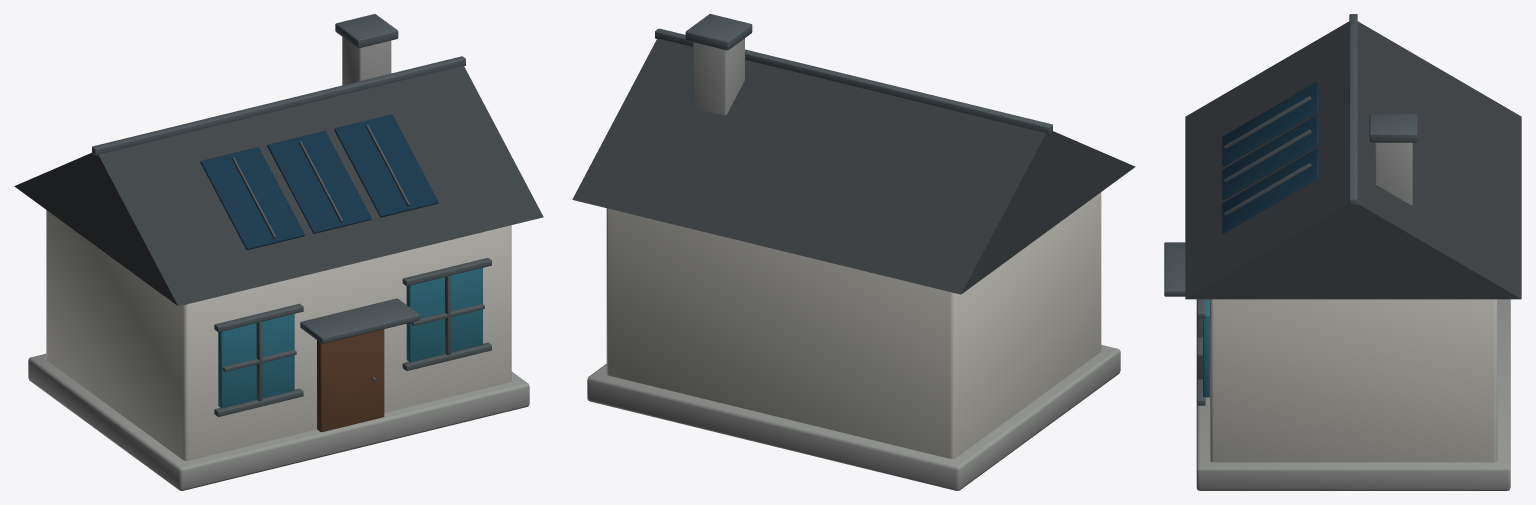
File: CloudVillageCottage.fbx
The picture shows the model from 3 angles, left to right: view 1: azimuth 30°, elevation 25°; view 2: azimuth 150°, elevation 25°; view 3: azimuth 270°, elevation 25°; orthographic projection. The views are drawn at different scales.
Parts seen in each view (by area): view 1: Roof, Insulated mineral walls, Stone foundation, Recessed entrance, Roof solar module, Roof solar module.001, Roof solar module.002, Triple glazed window, Triple glazed window.001, Roof ridge, Entrance canopy, Chimney (+5 smaller); view 2: Insulated mineral walls, Roof, Stone foundation, Roof ridge, Chimney, Chimney cap; view 3: Roof, Insulated mineral walls, Stone foundation, Roof solar module.001, Roof solar module.002, Roof solar module, Chimney, Roof ridge, Chimney cap, Entrance canopy, Triple glazed window.001, Solar center busbar (+2 smaller).
Boxes of the visible parts, box(x1,y1,x2,y2) form: Roof: box(14, 65, 543, 306); Insulated mineral walls: box(46, 210, 511, 460); Stone foundation: box(28, 353, 529, 490); Recessed entrance: box(317, 329, 384, 431); Roof solar module: box(200, 147, 304, 249); Roof solar module.001: box(267, 130, 371, 233); Roof solar module.002: box(334, 114, 438, 217); Triple glazed window: box(218, 314, 294, 408); Triple glazed window.001: box(406, 268, 482, 362); Roof ridge: box(92, 56, 465, 155); Entrance canopy: box(300, 298, 419, 343); Chimney: box(342, 37, 391, 85); Insulated mineral walls: box(606, 192, 1101, 458); Roof: box(572, 38, 1135, 294); Stone foundation: box(587, 345, 1120, 490); Roof ridge: box(655, 28, 1052, 134); Chimney: box(693, 38, 744, 115); Chimney cap: box(685, 14, 752, 50); Roof: box(1185, 21, 1521, 299); Insulated mineral walls: box(1210, 299, 1497, 462); Stone foundation: box(1196, 299, 1510, 490); Roof solar module.001: box(1222, 115, 1318, 200); Roof solar module.002: box(1222, 148, 1318, 233); Roof solar module: box(1222, 81, 1318, 166); Chimney: box(1374, 142, 1412, 205); Roof ridge: box(1349, 14, 1357, 205); Chimney cap: box(1369, 114, 1417, 142); Entrance canopy: box(1164, 242, 1185, 296); Triple glazed window.001: box(1203, 299, 1209, 397); Solar center busbar: box(1224, 96, 1311, 149).
Size of the model in its own units: 7.88 by 6.63 by 6.42.
